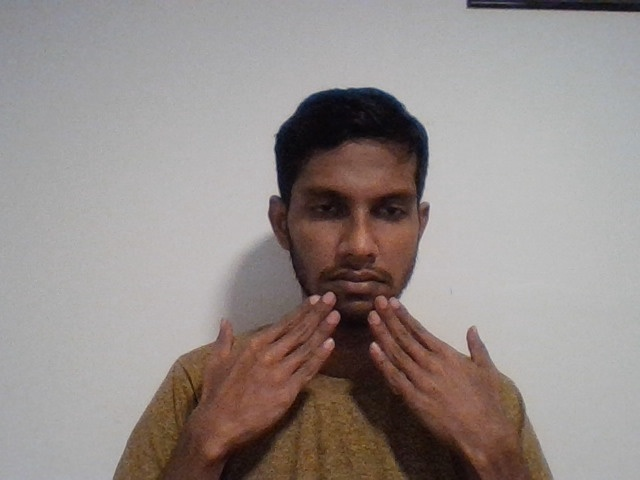thanks: (157, 286, 542, 465)
